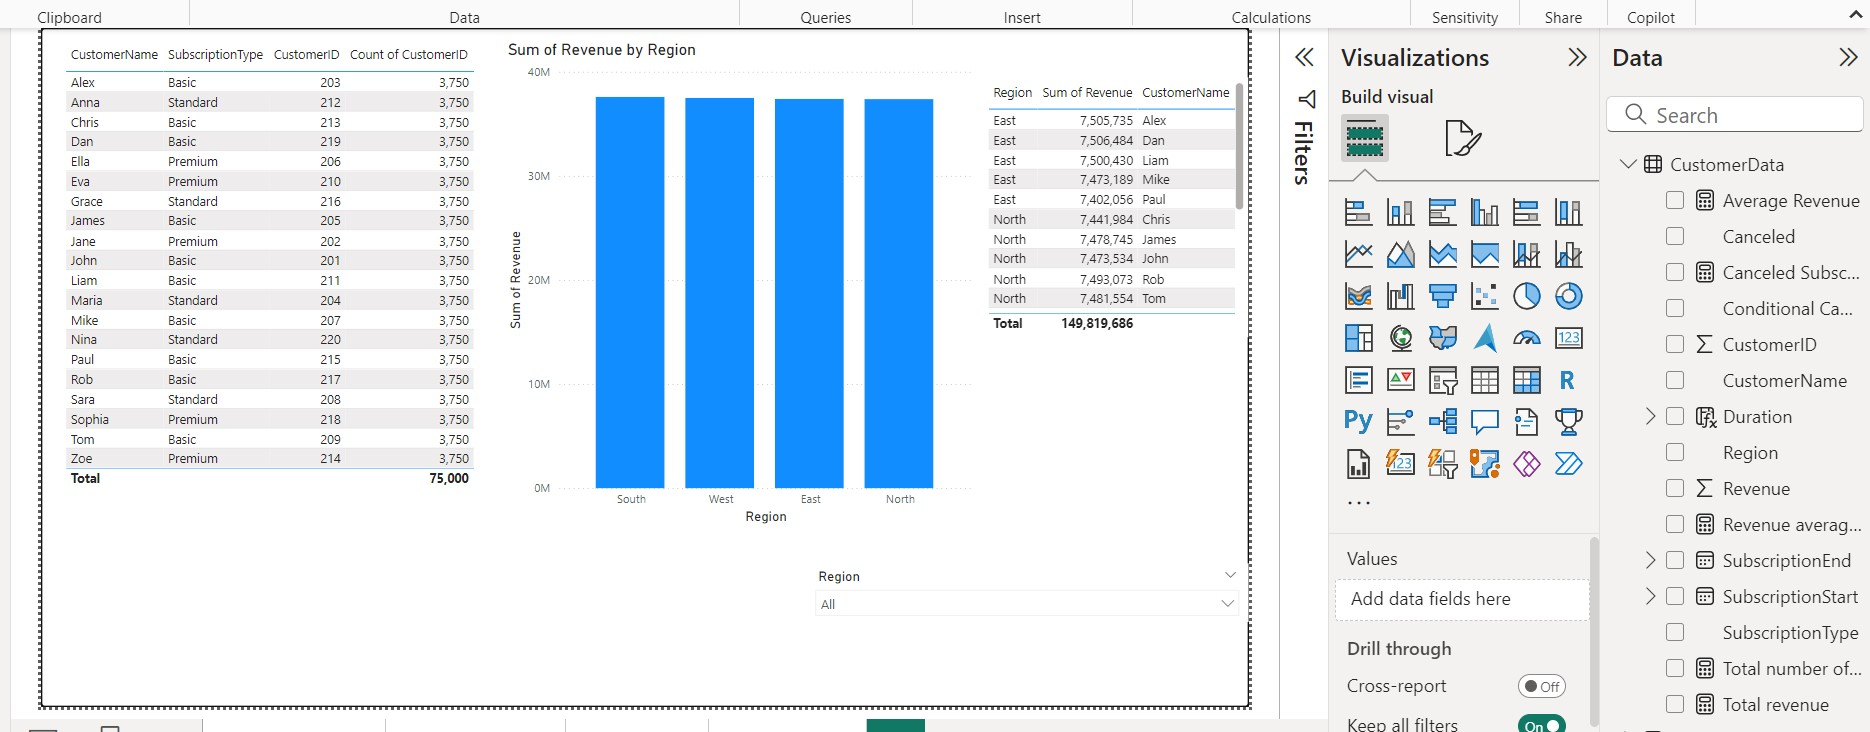

Layout of this report page (visuals, bound fields, positions):
{"tool":"powerbi","page":{"name":"Customer Data","canvas":[1280,720],"ordinal":0},"visuals":[{"type":"tableEx","fields":{"Values":["CustomerData.CustomerName","CustomerData.SubscriptionType","CustomerData.CustomerID","CountNonNull(CustomerData.CustomerID)1"]},"box":[20.5,12.6,469,483.2],"z":0},{"type":"columnChart","fields":{"Y":["CustomerData.Revenue"],"Category":["CustomerData.Region"]},"box":[489.5,12.6,502.1,517.9],"z":1000},{"type":"tableEx","fields":{"Values":["CustomerData.Region","CustomerData.Revenue","CustomerData.CustomerName"]},"box":[998.9,52.5,281.5,275.2],"z":2000}]}

Visuals, with their boxes on the page's 1280x720 design canvas (x1, y1, x2, y2). These are canvas units, not pixel positions in the 1870x732 screenshot, which may show the page scaled, cropped or inside an application window:
tableEx - CustomerData.CustomerName x CustomerData.SubscriptionType: (x1=20, y1=13, x2=490, y2=496)
columnChart - CustomerData.Revenue x CustomerData.Region: (x1=490, y1=13, x2=992, y2=530)
tableEx - CustomerData.Region x CustomerData.Revenue: (x1=999, y1=52, x2=1280, y2=328)
